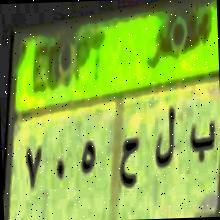0: (52, 152, 66, 196)
5: (80, 137, 100, 178)
7: (22, 142, 45, 197)
7aa: (119, 132, 142, 198)
baa: (186, 110, 218, 173)
laam: (152, 107, 180, 180)
